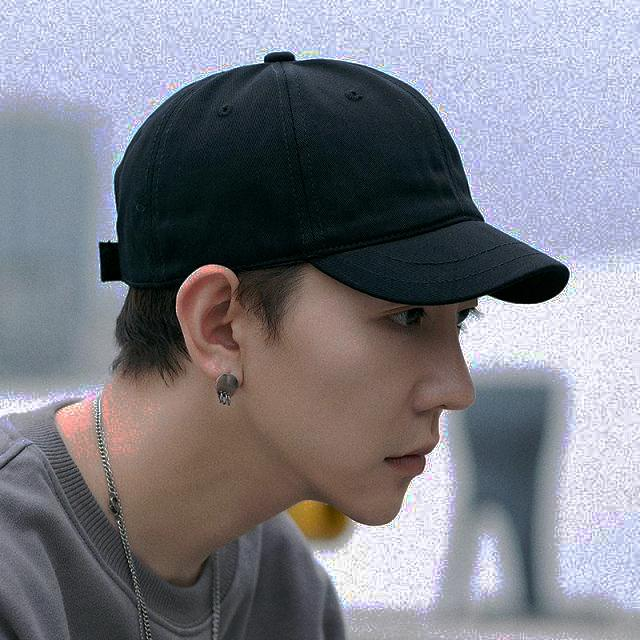TOPI: (101, 46, 571, 310)
